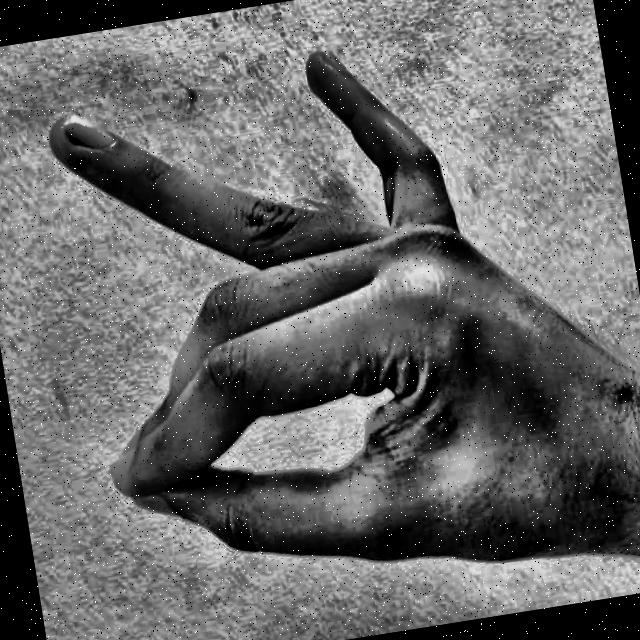Na: (8, 0, 622, 640)
